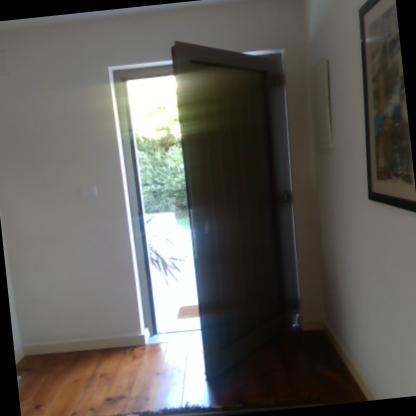semi: (89, 26, 330, 384)
